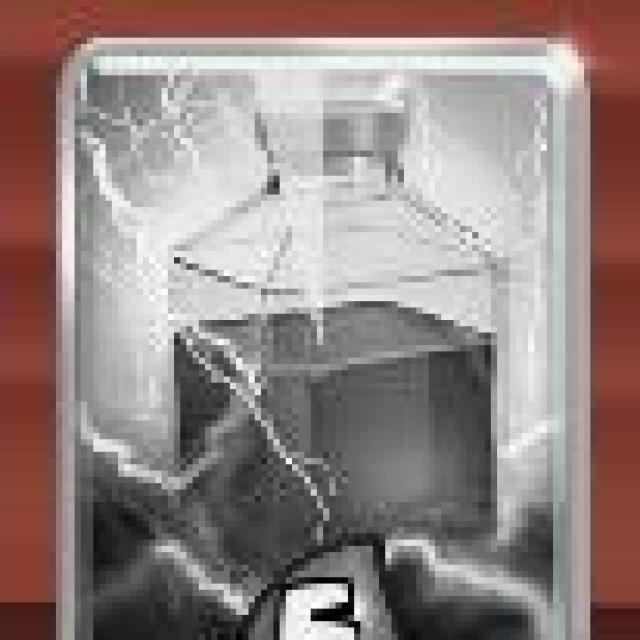Lightning: (63, 39, 591, 640)
